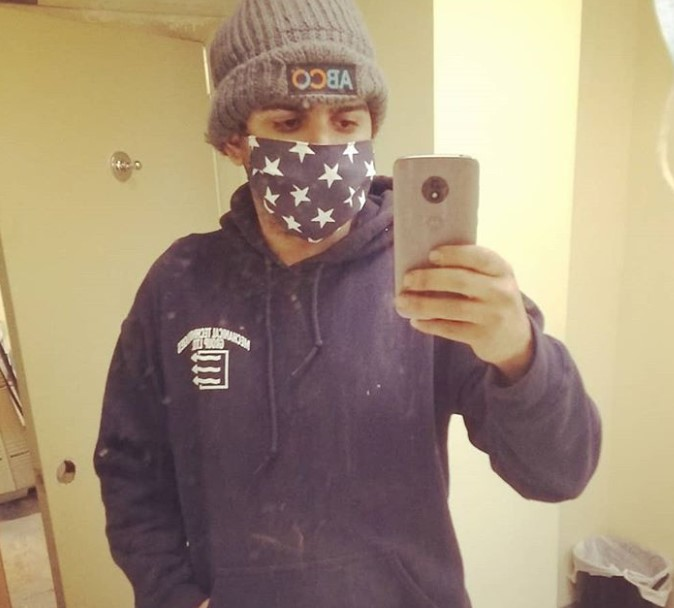face_with_mask: (207, 6, 378, 242)
